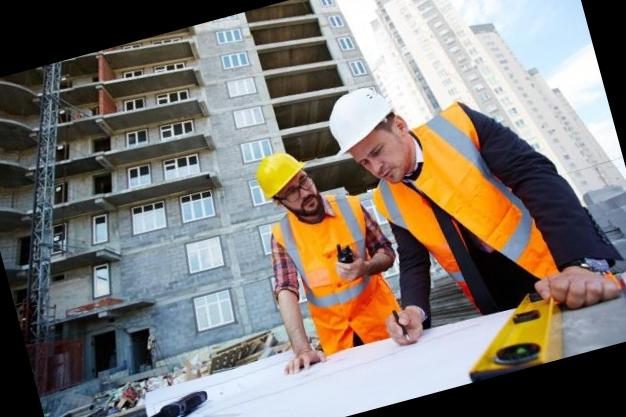Vest: (364, 108, 556, 318), (266, 192, 404, 342)
